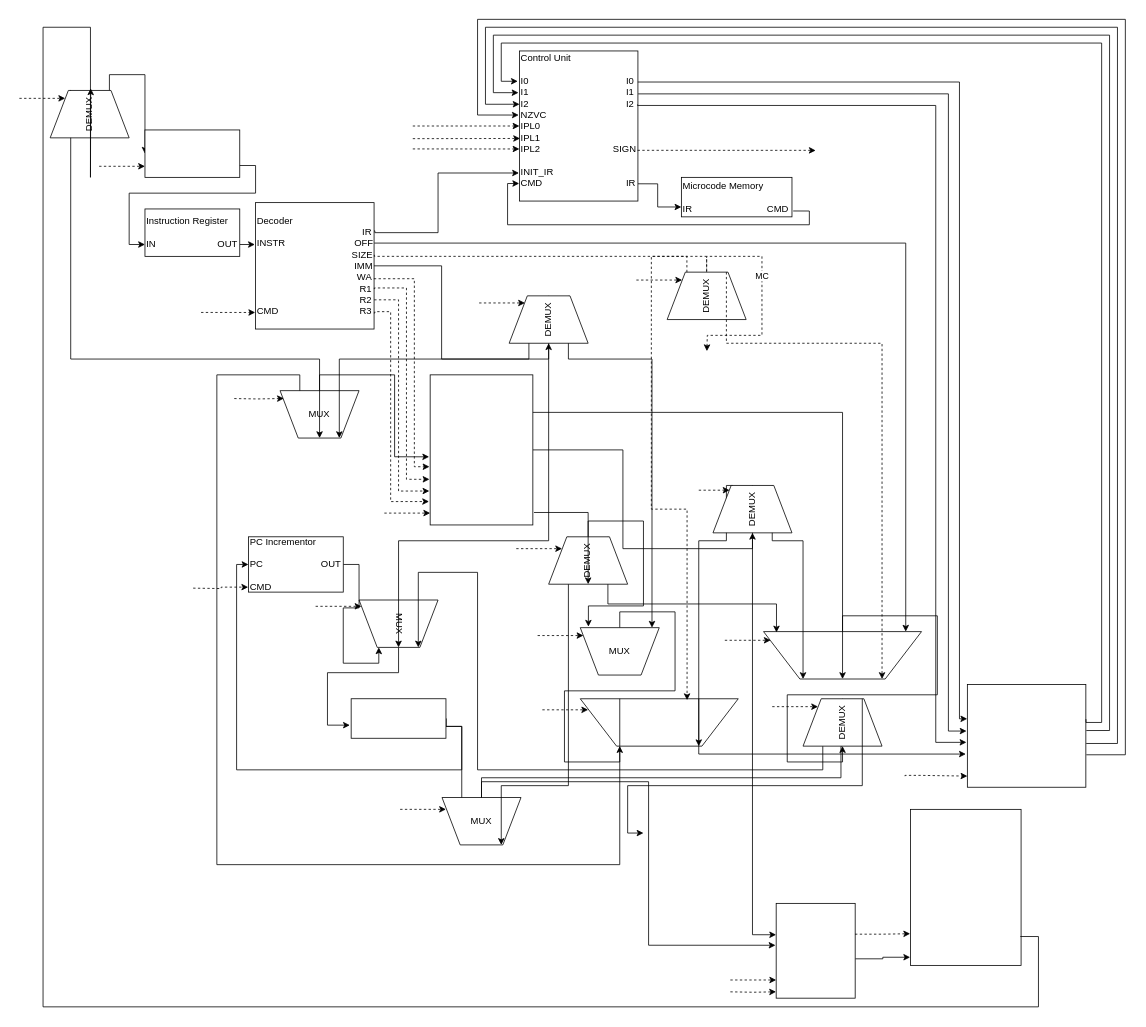
Some shapes in this 1146 by 1027 pixel diagram are drawn without their labels. The shapes that lost their labels are listed below. From the top down, each one's box as (x1, y1, x2, y2) in pixels, then its label:
(144, 129, 240, 177): Prefetch Queue HEAD CMD TAIL
(429, 374, 533, 525): Register File A0- A7 OUTi D0- D7 IN OUT2 WA R1 R2 R3 CMD OUT1
(763, 631, 922, 679): AGU
(350, 698, 446, 738): Programm Counter PC_next OUT
(579, 698, 738, 746): ALU
(967, 684, 1086, 787): Status Register I0 I0 I1 I1 I2 I2 NZVC NZVC CMD
(910, 809, 1021, 965): Memory CMD DATA DATA
(775, 903, 855, 998): Memory Control DATA CMD ADDR DATA SIZE CMD
